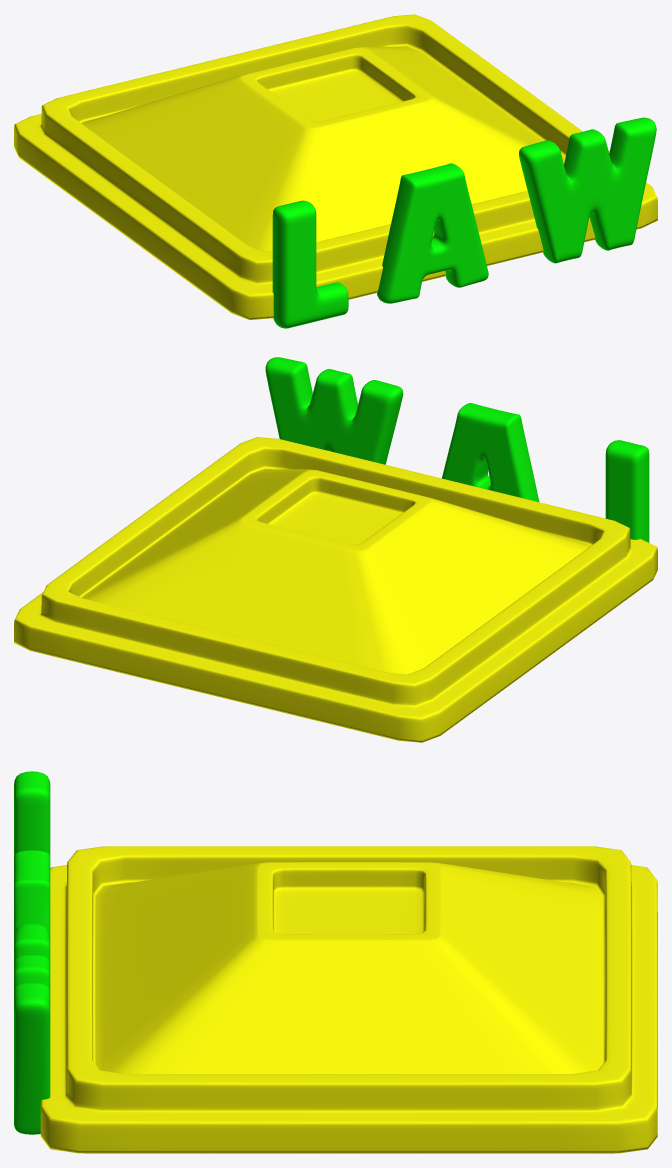
3 renders of one model, top to bottom at view 1: azimuth 30°, elevation 25°; view 2: azimuth 150°, elevation 25°; view 3: azimuth 270°, elevation 25°, orthographic. The views are drawn at different scales.
Parts seen in each view (by area): view 1: LAW:typeMesh2; view 2: LAW:typeMesh2; view 3: LAW:typeMesh2.
Part boxes in pixels (x1,y1,x2,y2): LAW:typeMesh2: [14, 14, 657, 328]; LAW:typeMesh2: [14, 357, 657, 742]; LAW:typeMesh2: [14, 771, 657, 1153].
Size of the model in its own units: 0.9998 by 0.2685 by 1.04.
